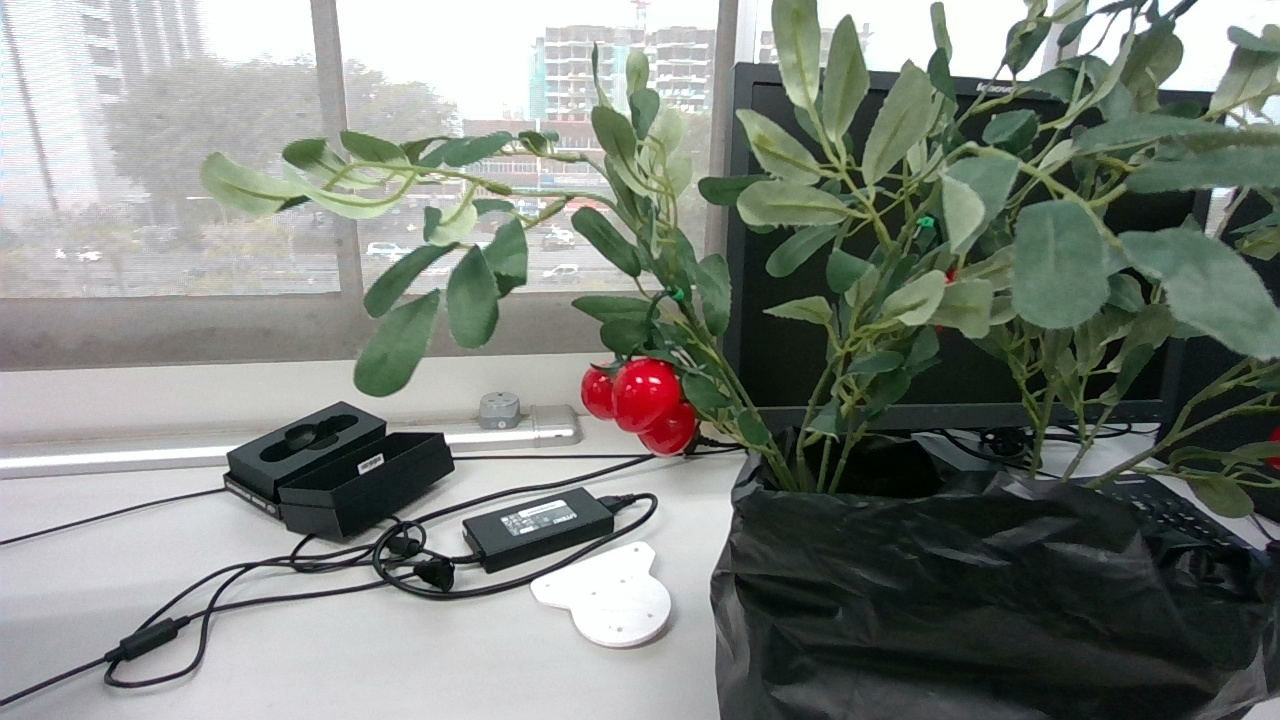peduncle: (646, 290, 665, 318)
strawberry: (612, 356, 682, 432), (639, 401, 697, 456), (581, 365, 615, 420)
